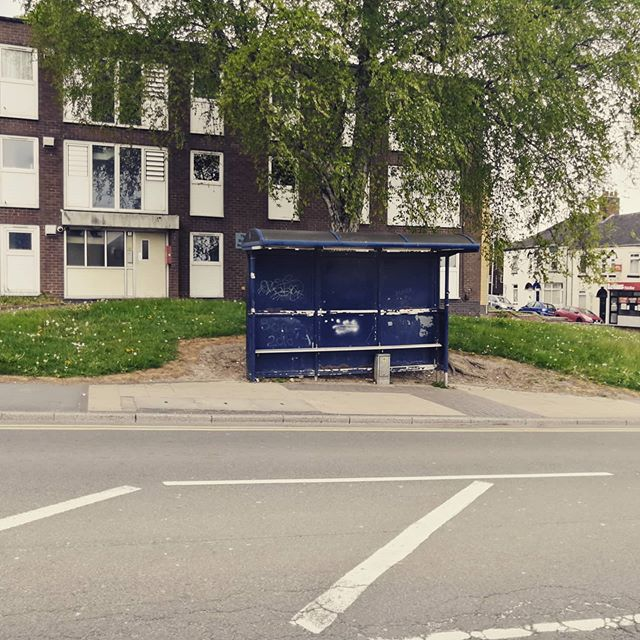building: (1, 27, 474, 306), (499, 214, 640, 318)
sidewalk: (1, 367, 638, 437)
street: (1, 437, 638, 640)
tree: (41, 1, 588, 224)
